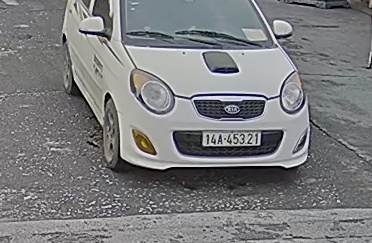vehicle plate: (200, 126, 263, 153)
